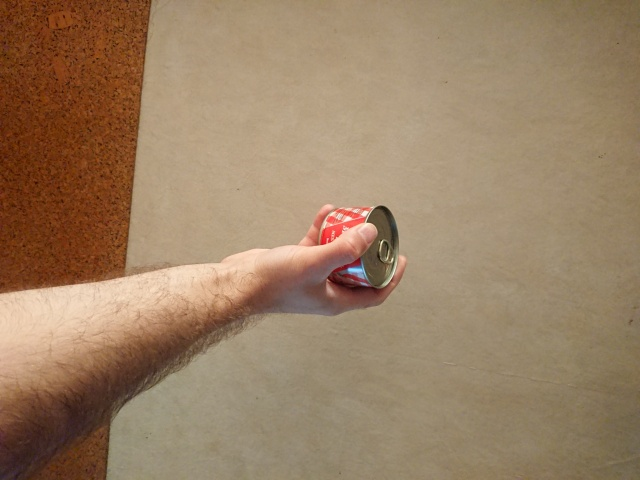Podravka Luncheon Meat 150g: (314, 204, 402, 292)
